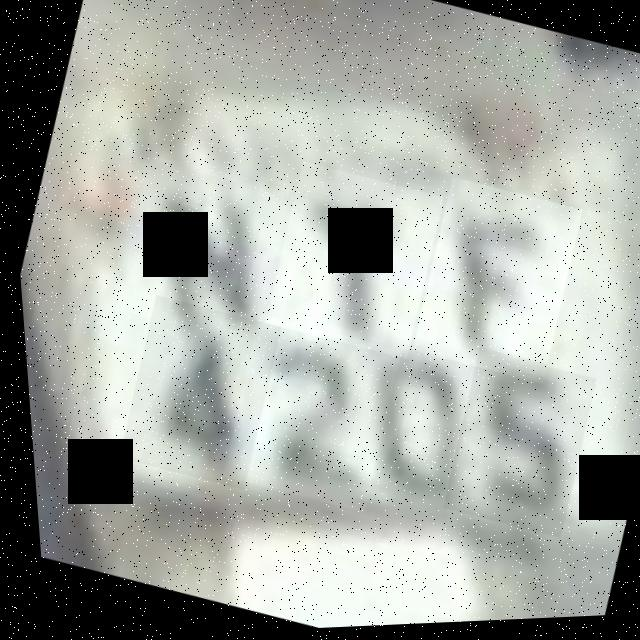0: (306, 318, 507, 541)
2: (205, 311, 404, 520)
4: (102, 292, 285, 496)
5: (425, 349, 599, 546)
F: (396, 177, 588, 394)
N: (101, 150, 301, 353)
T: (251, 159, 449, 367)
